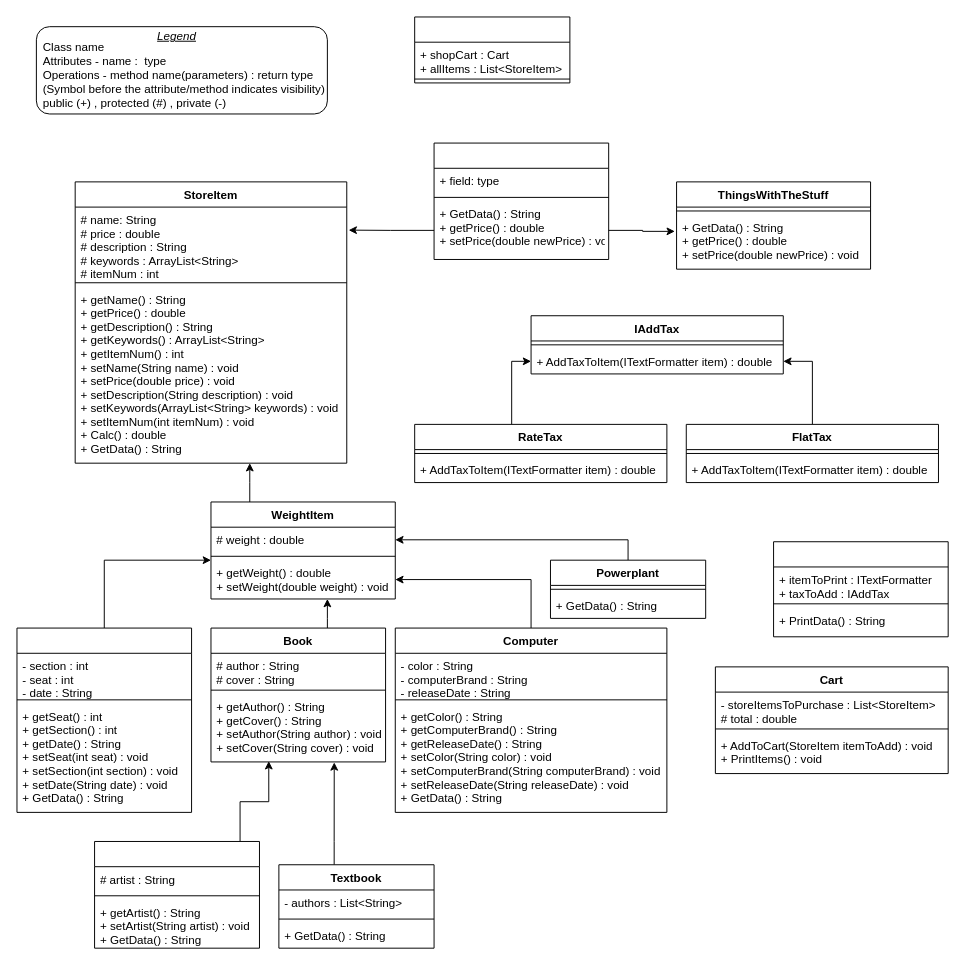
Some shapes in this 965 by 968 pixel diagram are drawn without their labels. The box of each missing label's shape, as (x1, y1, x2, y2) in pixels:
App: (414, 16, 570, 83)
Basketball: (16, 627, 192, 812)
ComicBook: (94, 841, 259, 948)
ITextFormatter: (433, 142, 609, 259)
StoreItemDataPrinter: (773, 541, 948, 637)
